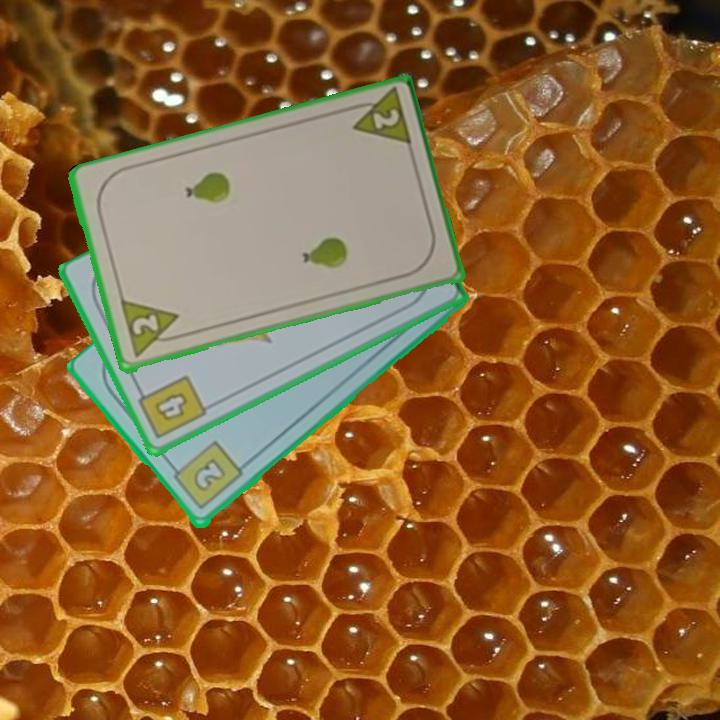2b: (166, 438, 246, 514)
2p: (342, 86, 415, 151), (116, 297, 187, 362)
4b: (133, 372, 210, 442)
